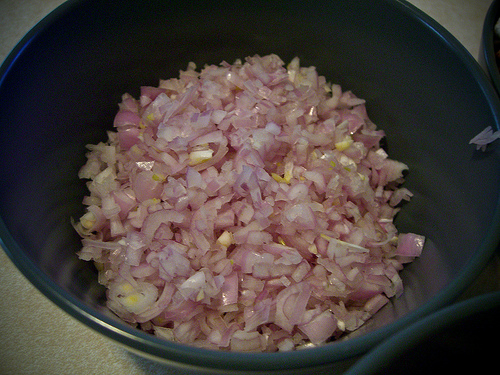onion: (76, 56, 426, 351)
